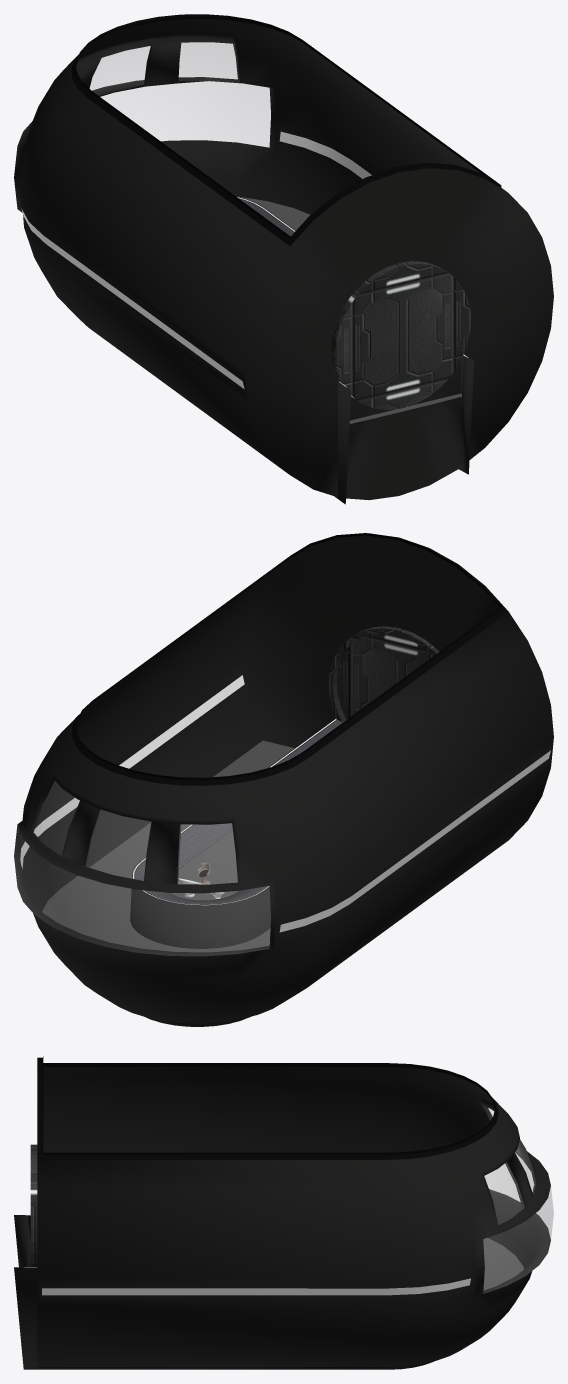
File: ship7.glb
The picture shows the model from 3 angles, top to bottom: view 1: azimuth 30°, elevation 25°; view 2: azimuth 150°, elevation 25°; view 3: azimuth 270°, elevation 25°; orthographic projection. The views are drawn at different scales.
Visible parts, largest first — view 1: Sci_Fi_Space_Station; view 2: Sci_Fi_Space_Station; view 3: Sci_Fi_Space_Station.
Part boxes in pixels (box(x1,y1,x2,y2)): Sci_Fi_Space_Station: box(14, 14, 553, 504); Sci_Fi_Space_Station: box(14, 533, 553, 1026); Sci_Fi_Space_Station: box(14, 1056, 553, 1369).
Size of the model in its own units: 67.7 by 68.29 by 118.
Materials: 11 (3 with a texture image).
